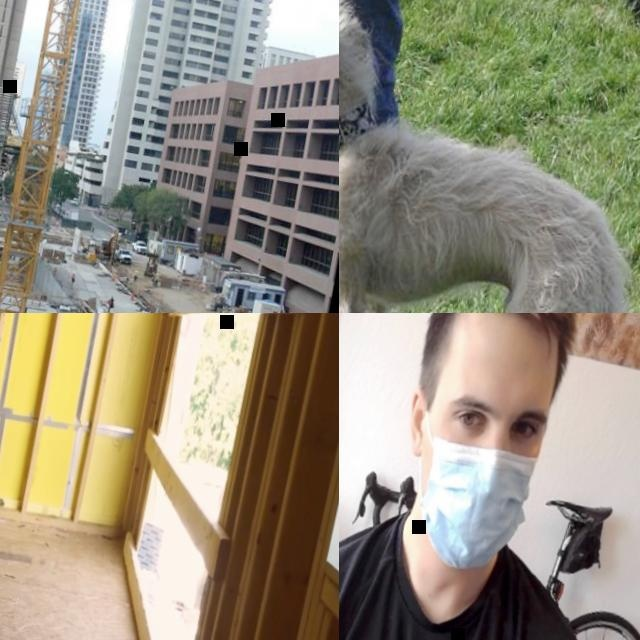Hardhat: (71, 272, 74, 274)
Mask: (396, 410, 543, 578)
NO-Hardhat: (433, 313, 587, 350)
NO-Safety Vest: (339, 510, 576, 640)
Person: (339, 313, 640, 640), (339, 0, 487, 313), (104, 297, 113, 313), (67, 272, 75, 285), (131, 270, 138, 284)
Safety Cone: (148, 302, 153, 313), (128, 293, 134, 302), (135, 286, 140, 296), (158, 294, 162, 305)
Safety Vest: (133, 271, 137, 277)
machinery: (93, 223, 122, 267), (142, 253, 159, 280)
vehicle: (112, 248, 133, 266), (129, 240, 148, 256)
